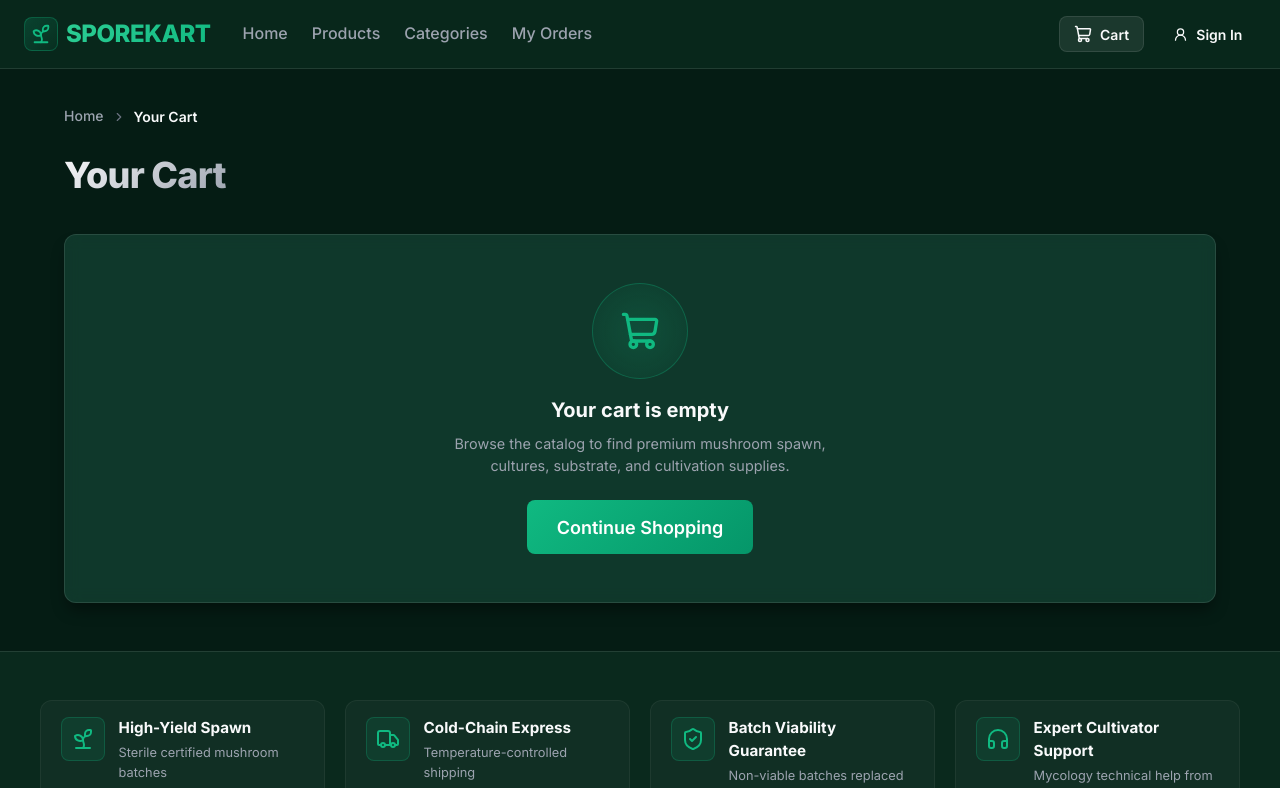
Test: Cart Purchase Integration Flows (FD-11) › FLOW E — empty cart shows the empty state and Continue Shopping returns to the catalog
Expected: the element with test id "cart-empty" is shown, [64, 234, 1216, 603]
Step 1. Click the link "Continue Shopping" → (640, 527), box [527, 500, 753, 554]
(page scrolled)
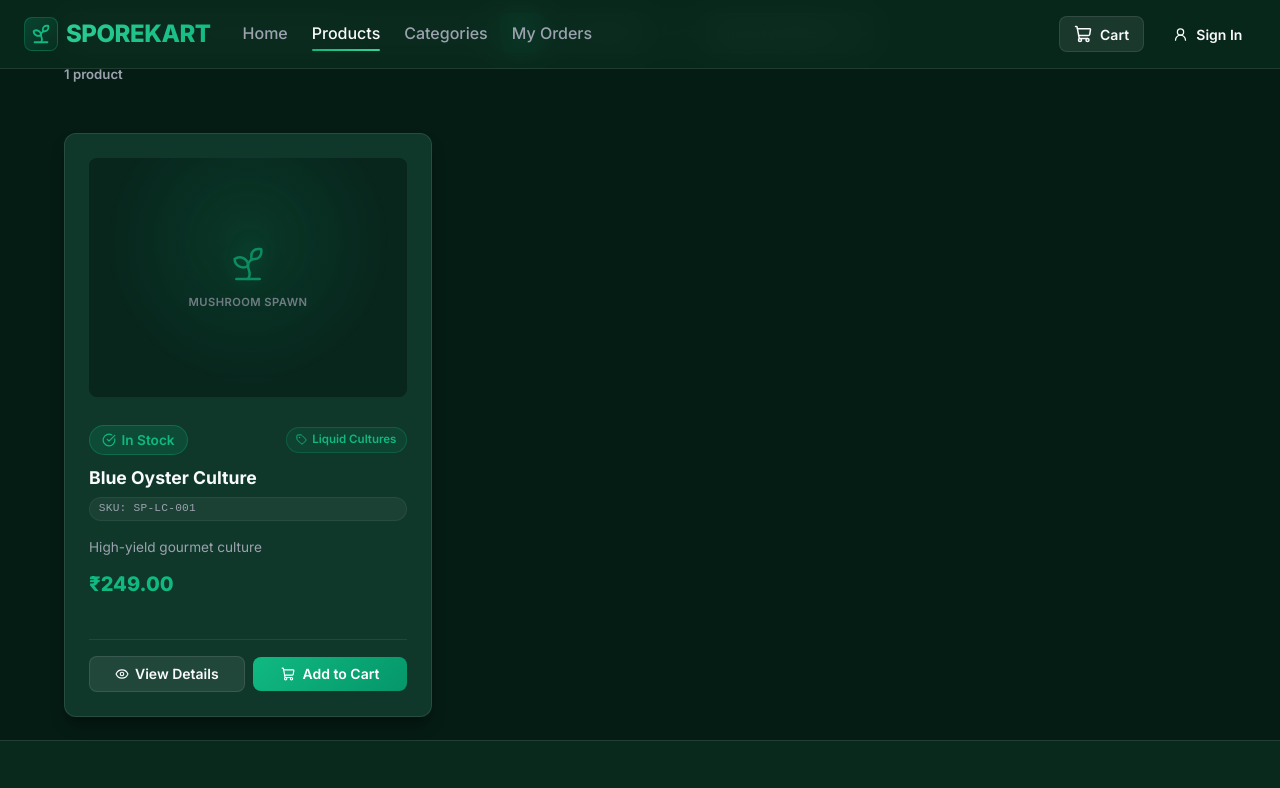
Expected: the element with test id "products-grid" is shown, [64, 133, 432, 716]
